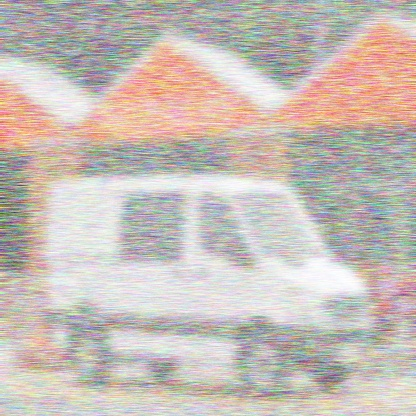Vehicle: (42, 145, 372, 401)
